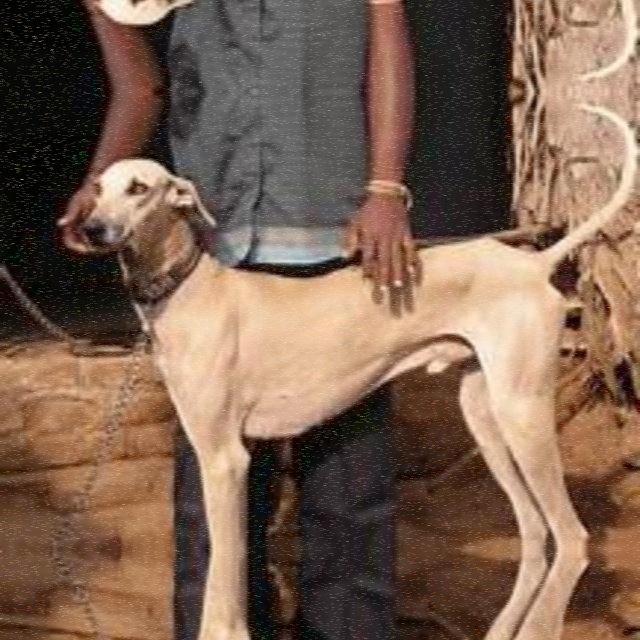dog: (48, 146, 610, 548), (48, 548, 610, 640), (48, 0, 610, 36)
